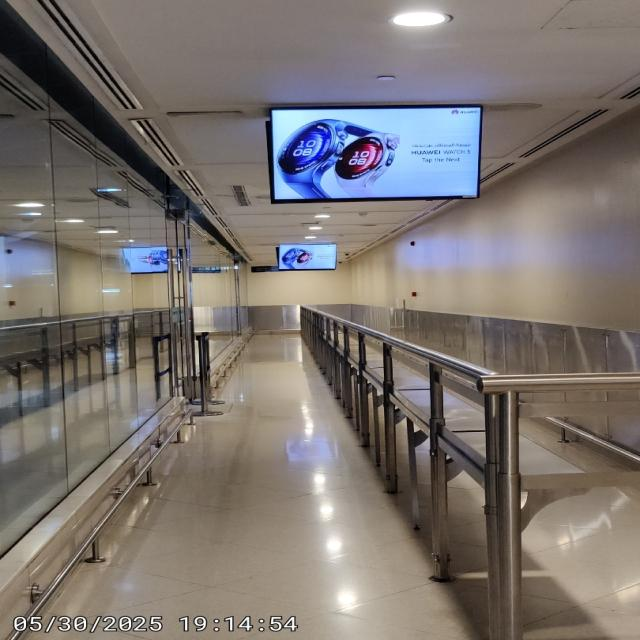digital-board: (272, 106, 486, 205)
